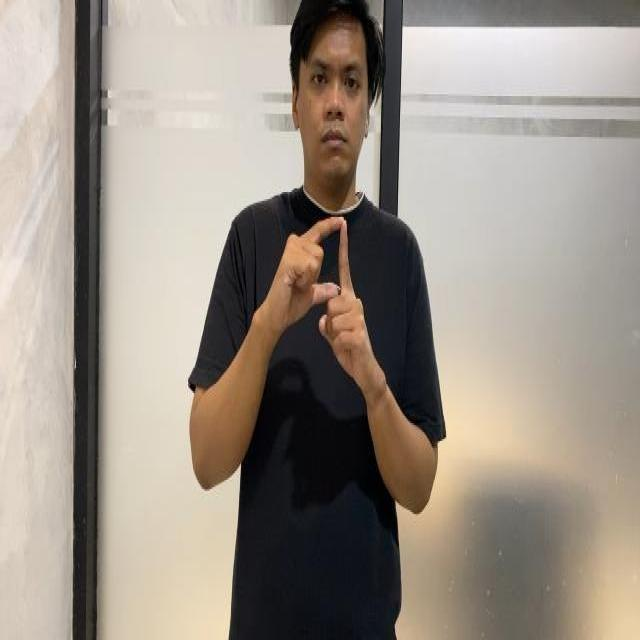D: (284, 208, 370, 339)
